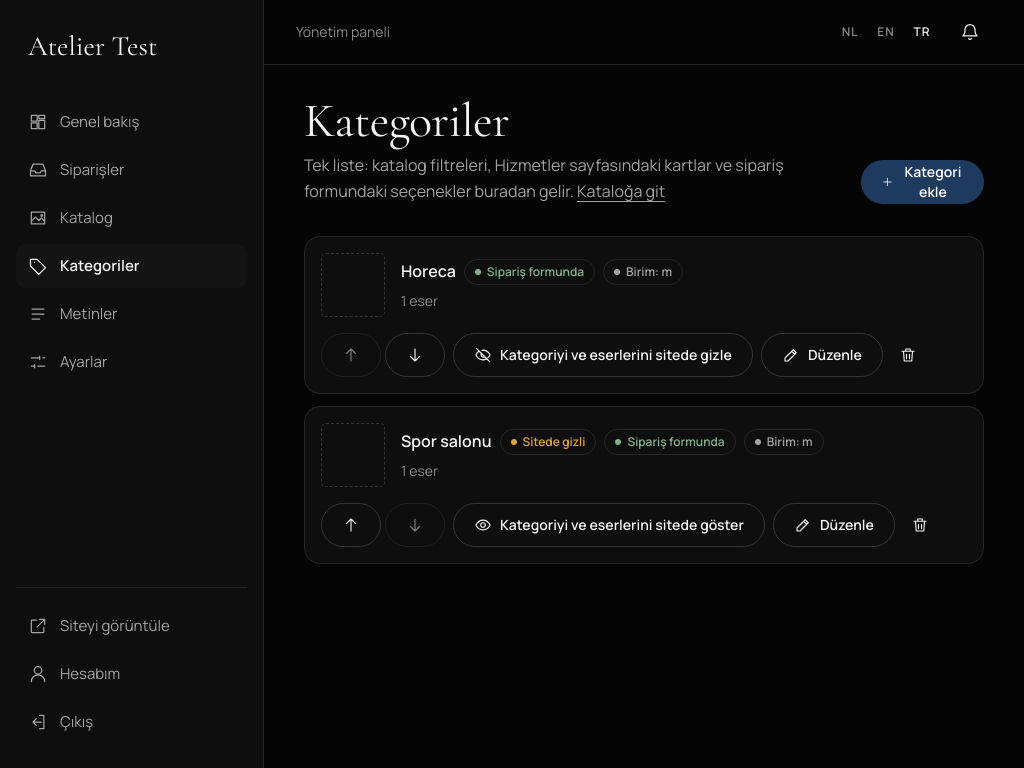
categories page › asks where the works go when deleting a category that has works
Later steps or results of the test are not shown.
Click the button named "Sil: Horeca". click: (908, 355)
box: [891,333,925,377]
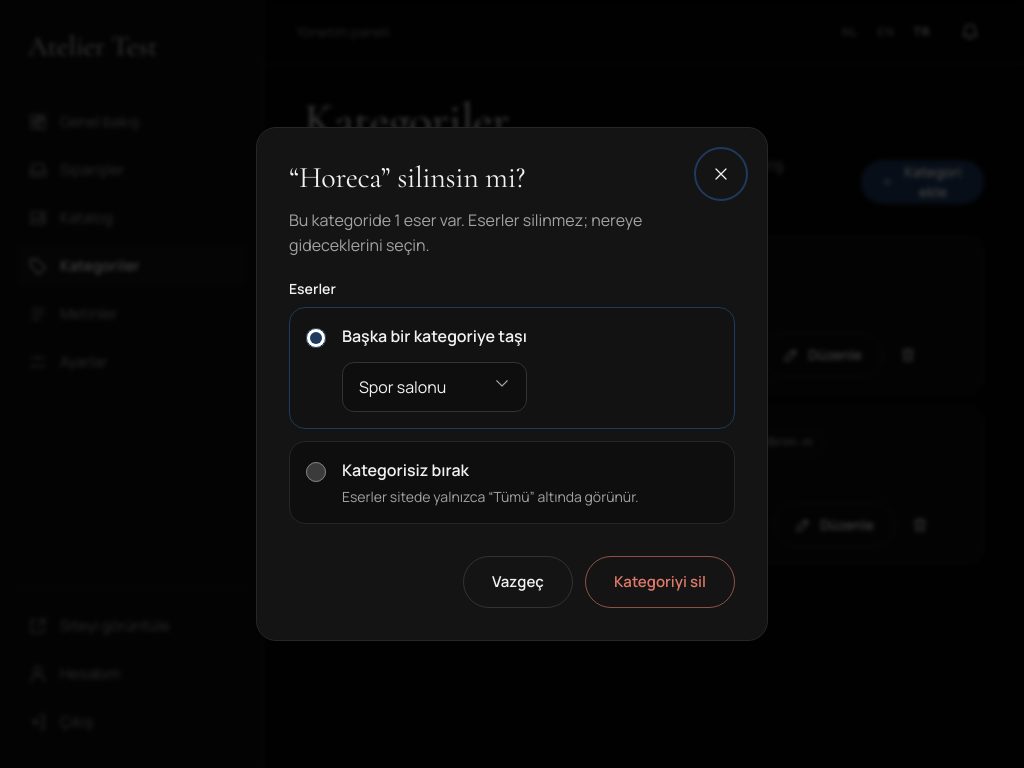
Result: the text "Eserler silinmez" is shown at [289,209,642,256]
